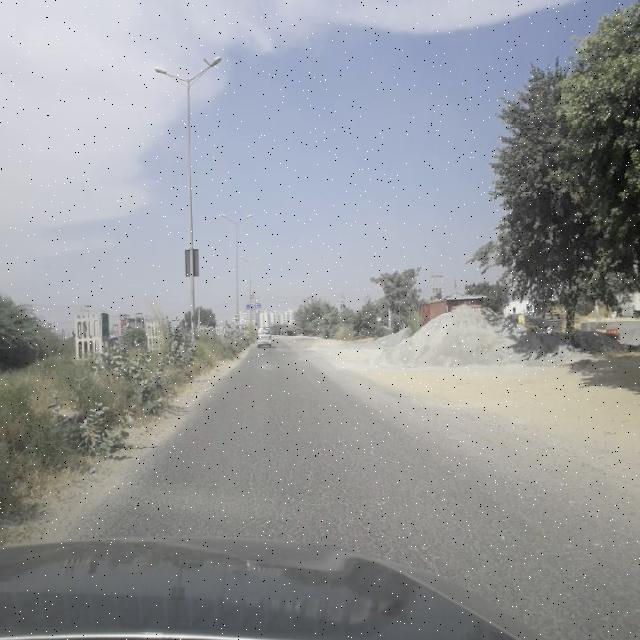D20: (119, 412, 585, 586)
